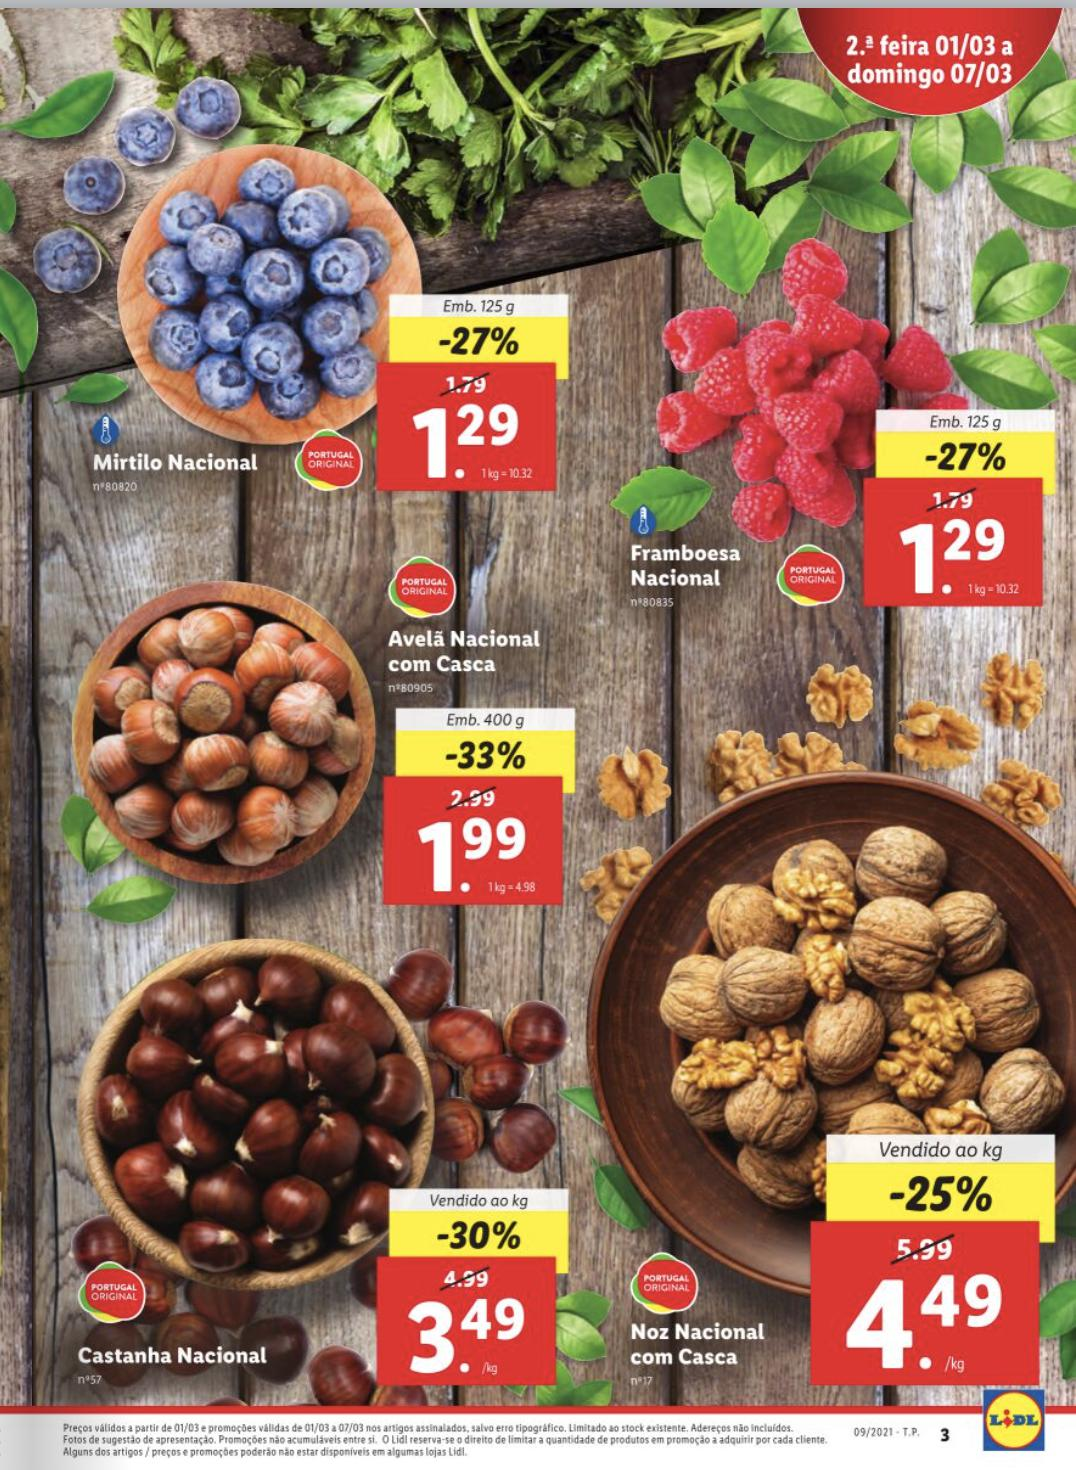name: (610, 1316, 774, 1372), (378, 627, 548, 679), (72, 1332, 274, 1372), (626, 543, 747, 598), (87, 450, 262, 480)
price: (830, 1259, 1008, 1378), (396, 1292, 534, 1376), (412, 809, 536, 894), (896, 512, 1010, 601), (408, 396, 528, 480)
product: (607, 783, 1076, 1390), (63, 930, 586, 1398), (59, 123, 586, 523), (63, 559, 588, 919), (612, 239, 1067, 632)
promotion: (876, 1168, 996, 1223), (424, 314, 528, 365), (919, 433, 1008, 478), (430, 1214, 527, 1255), (432, 738, 539, 772)
